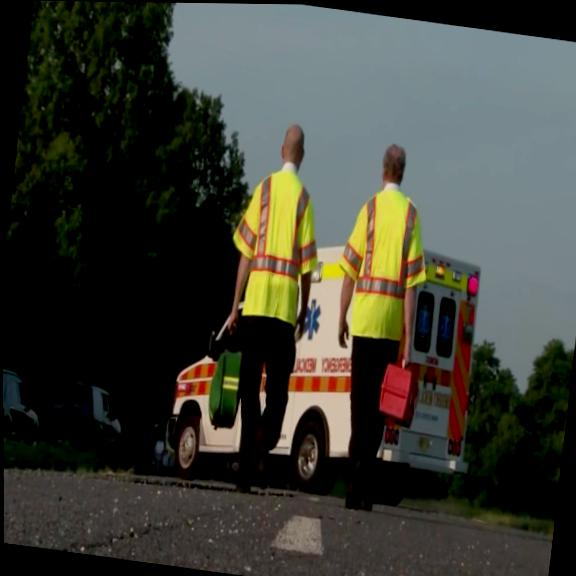safety_vest: (329, 186, 438, 345), (222, 162, 326, 324)
